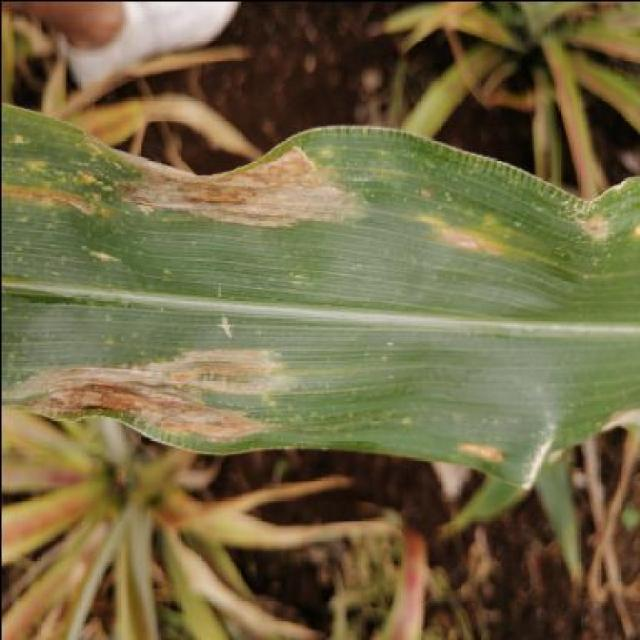Corn_Leaf_Blight: (0, 100, 640, 497)
